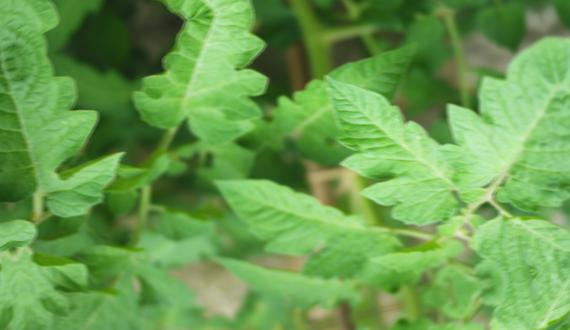Tomato leaf: (299, 37, 492, 255), (0, 39, 158, 259), (206, 137, 407, 309), (120, 1, 298, 179), (433, 20, 570, 235), (206, 215, 362, 330), (465, 183, 570, 285), (23, 264, 159, 330)
